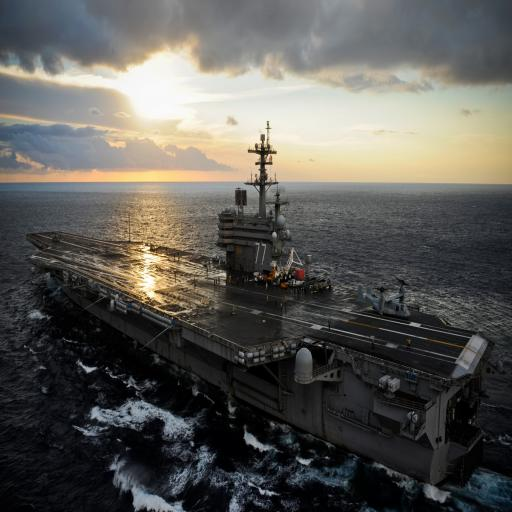Portanaves: (21, 117, 495, 497)
